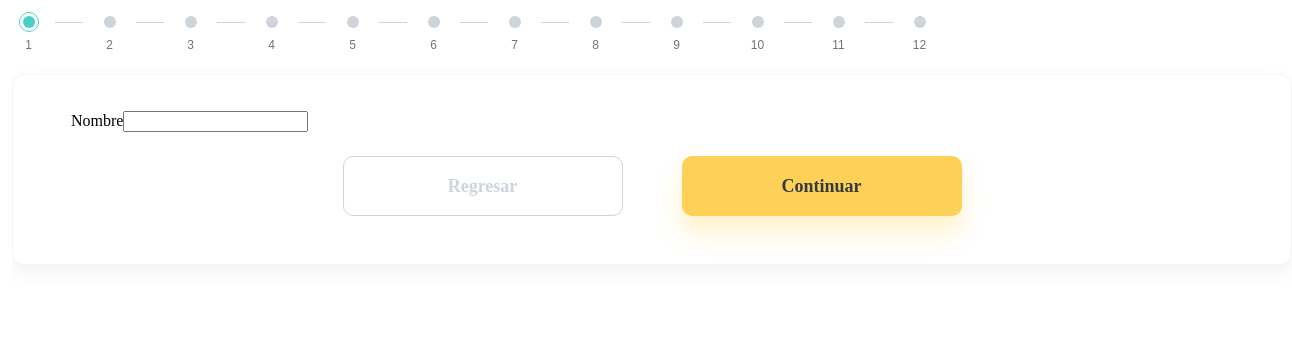
it: DeclarationWizard › bloqueo del paso 1 (datos personales) › does not let the stepper leave step 1 while it is incomplete and shows what is missing
The width and height of the screenshot is (1292, 348).
Click the button named "Paso 5". click: (352, 33)
box: [336, 12, 369, 54]
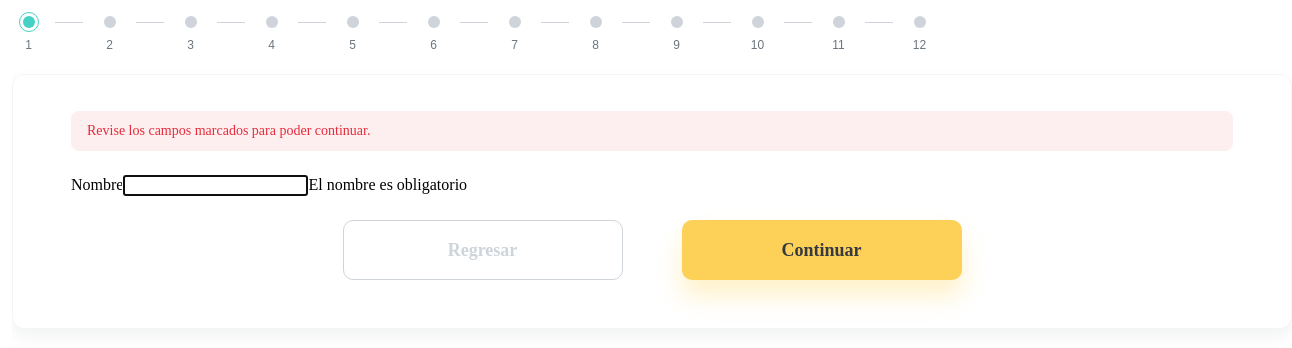
Expected: the message shows "Revise los campos", [87, 123, 370, 138]
Expected: the text "El nombre es obligatorio" is shown, [308, 176, 467, 193]
